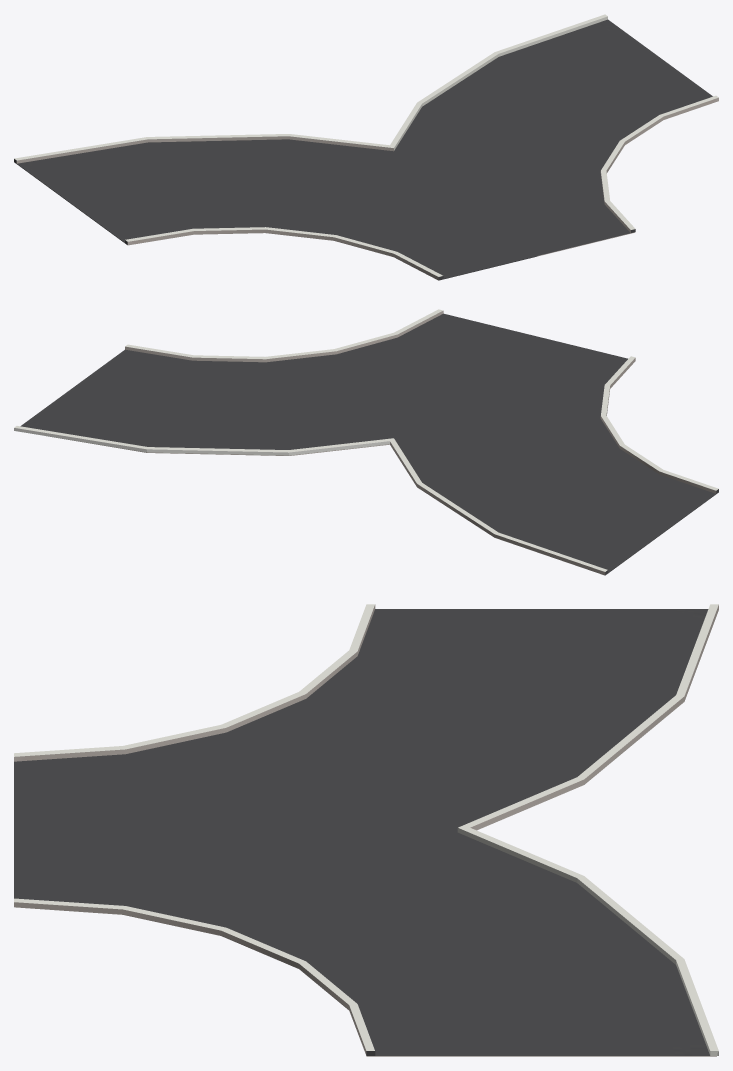
Rendered from road07.FBX.
3 views of the same model, one above another, from view 1: azimuth 30°, elevation 25°; view 2: azimuth 150°, elevation 25°; view 3: azimuth 270°, elevation 25° (orthographic). The views are drawn at different scales.
Visible parts, largest first — view 1: 002; view 2: 002; view 3: 002.
Part boxes in pixels (<box>): 002: <box>14,14,718,280</box>; 002: <box>14,309,718,575</box>; 002: <box>14,604,718,1056</box>.
Size of the model in its own units: 236 by 1.38 by 157.
1 material, 1 textured.
